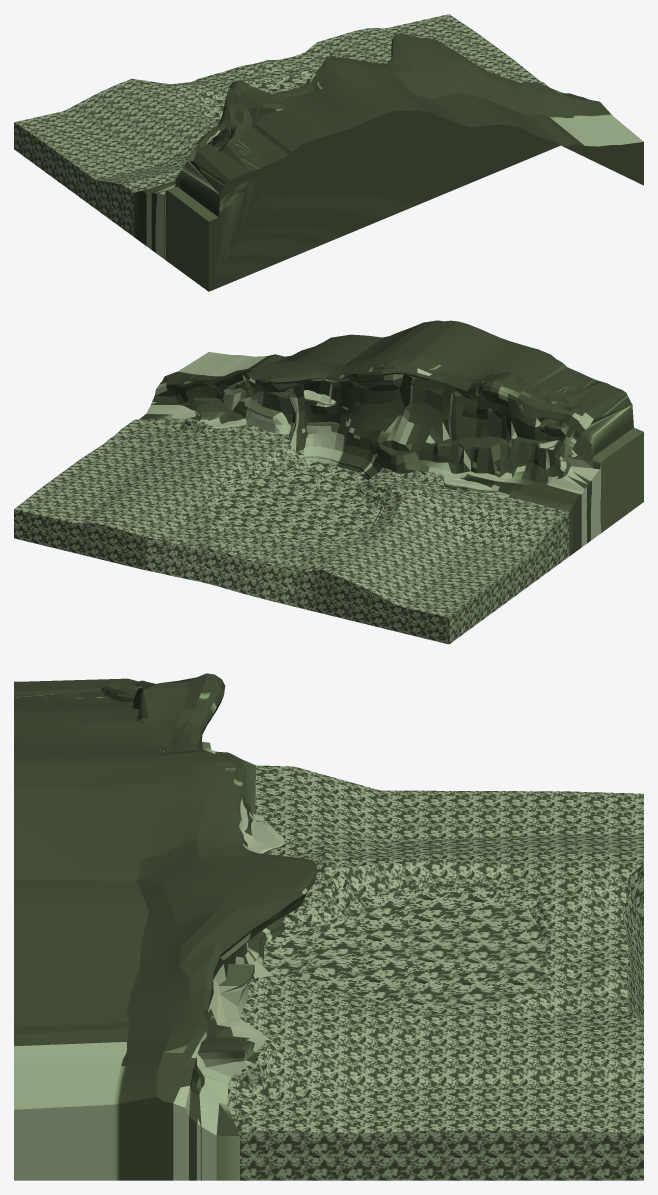
File: EA_SwampWorld.glb
3 renders of one model, top to bottom at view 1: azimuth 30°, elevation 25°; view 2: azimuth 150°, elevation 25°; view 3: azimuth 270°, elevation 25°, orthographic. The views are drawn at different scales.
Parts seen in each view (by area): view 1: EA_SwampWorld; view 2: EA_SwampWorld; view 3: EA_SwampWorld.
Boxes of the visible parts, <box> form: EA_SwampWorld: <box>14,14,643,291</box>; EA_SwampWorld: <box>14,320,643,644</box>; EA_SwampWorld: <box>14,673,643,1180</box>.
Size of the model in its own units: 194 by 61.72 by 151.
3 materials, 3 textured.
